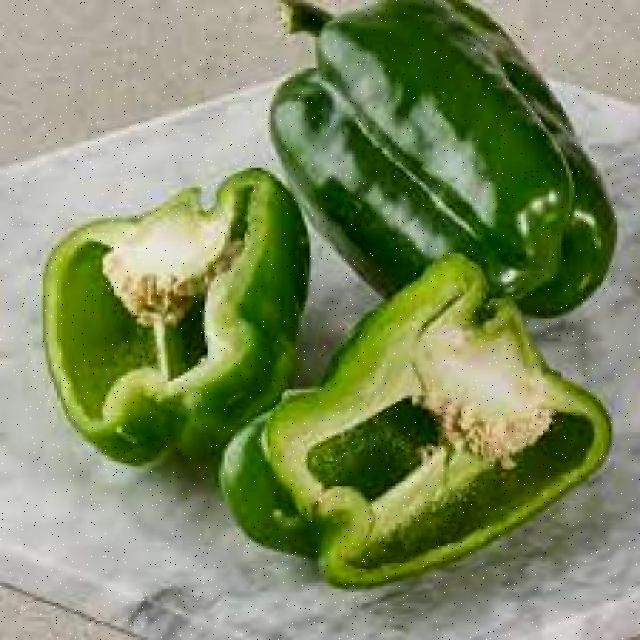Bell Pepper: (249, 285, 609, 603), (248, 0, 628, 297), (26, 178, 300, 465)
